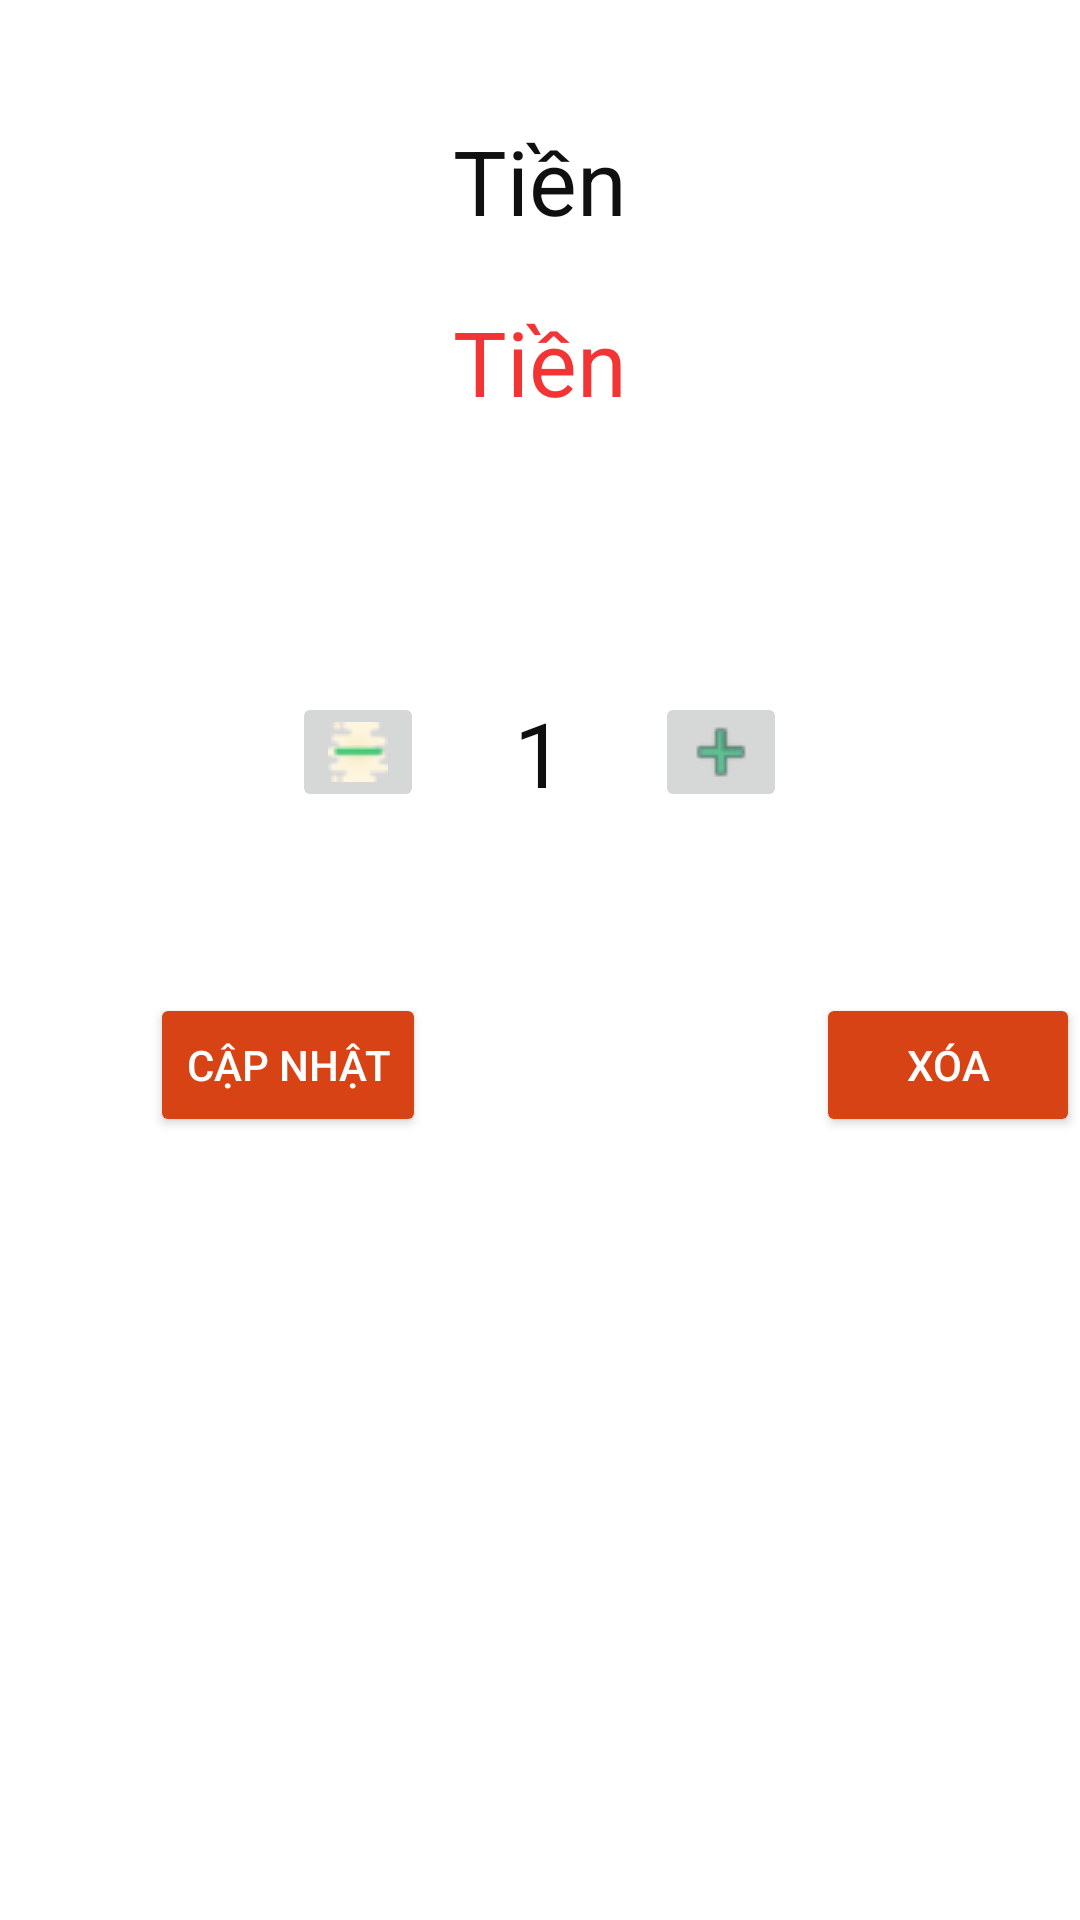

Icon click points for this 1080x1920 phone screenshot, format (x=x, y=y):
minus: (x=358, y=752)
plus: (x=721, y=752)
